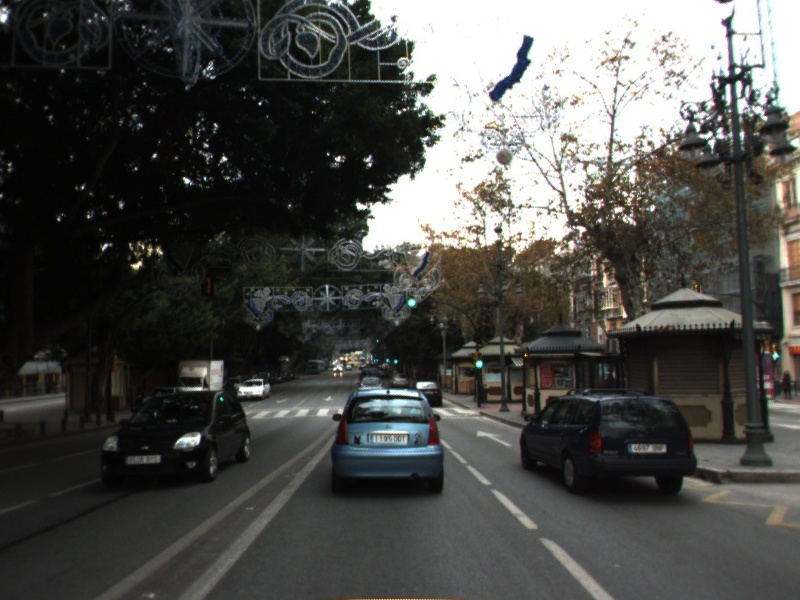STRAIGHT: (475, 428, 514, 448)
